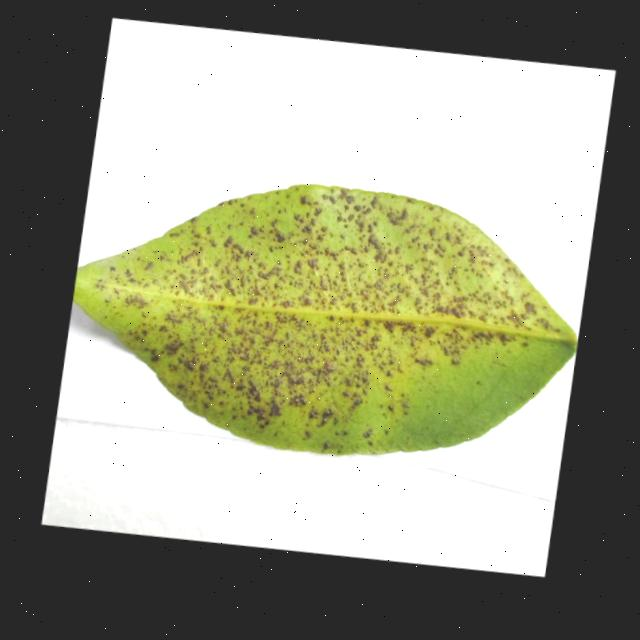melanose: (73, 184, 576, 454)
